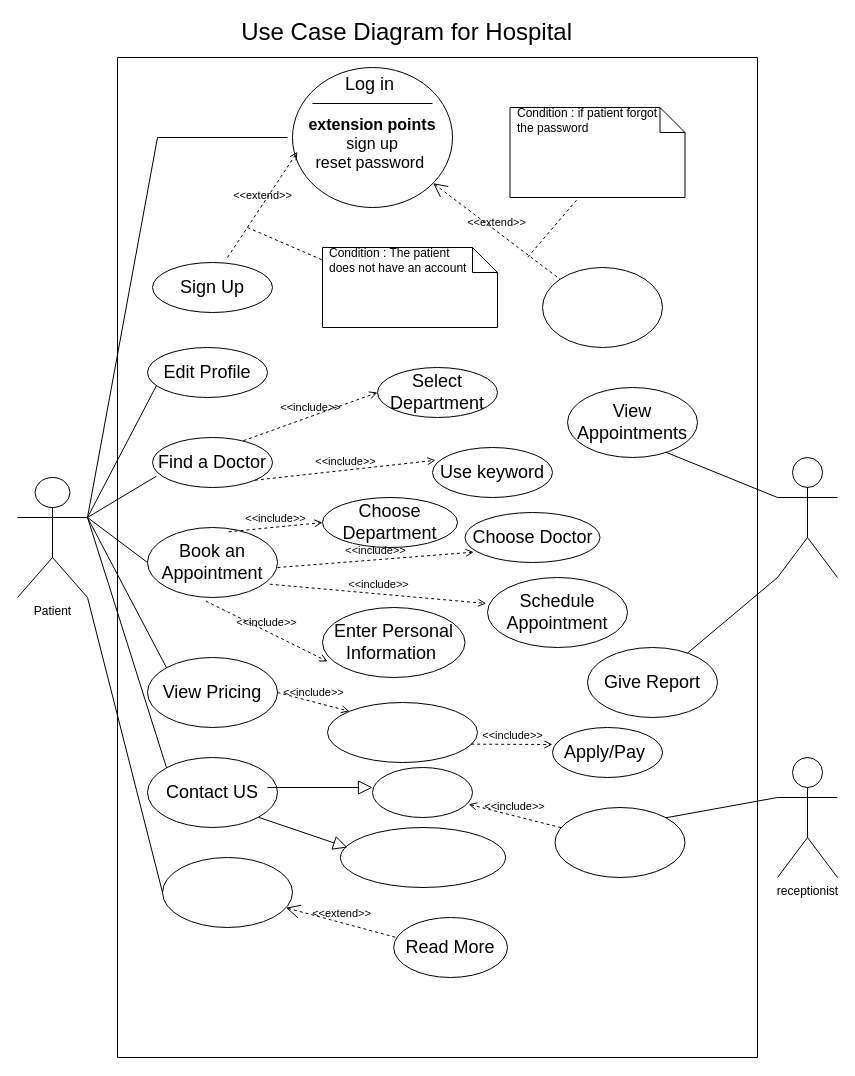
The diagram is 855 pixels wide and 1076 high, and some of its shapes have lost their labels. Here are the shapes that lost their labels. From the top down, the centre of each, then its label:
[597,152]: Extension point: Create a new pasword
[410,287]: Extension point: make a new account
[602,307]: Reset Password
[807,517]: Doctor
[402,732]: Select package
[422,792]: Call
[423,857]: Send a Message
[619,842]: Answer Calls
[227,892]: Read About
